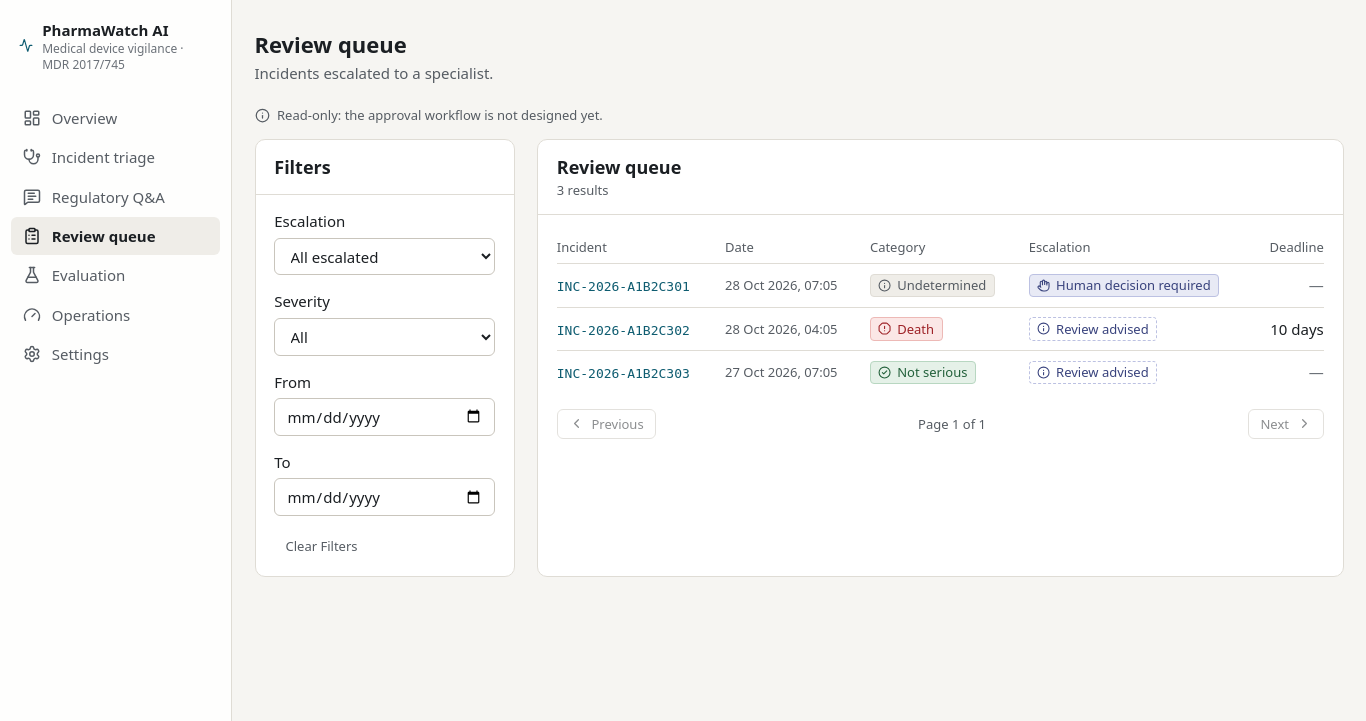
Test: review queue › lists only escalated incidents by default and opens one read-only
Check: the text "Read-only: the approval workflow is not designed yet." is shown, box [254,106,603,124]
Click the link "INC-2026-A1B2C301". click: (623,287)
box: [557,279,690,294]
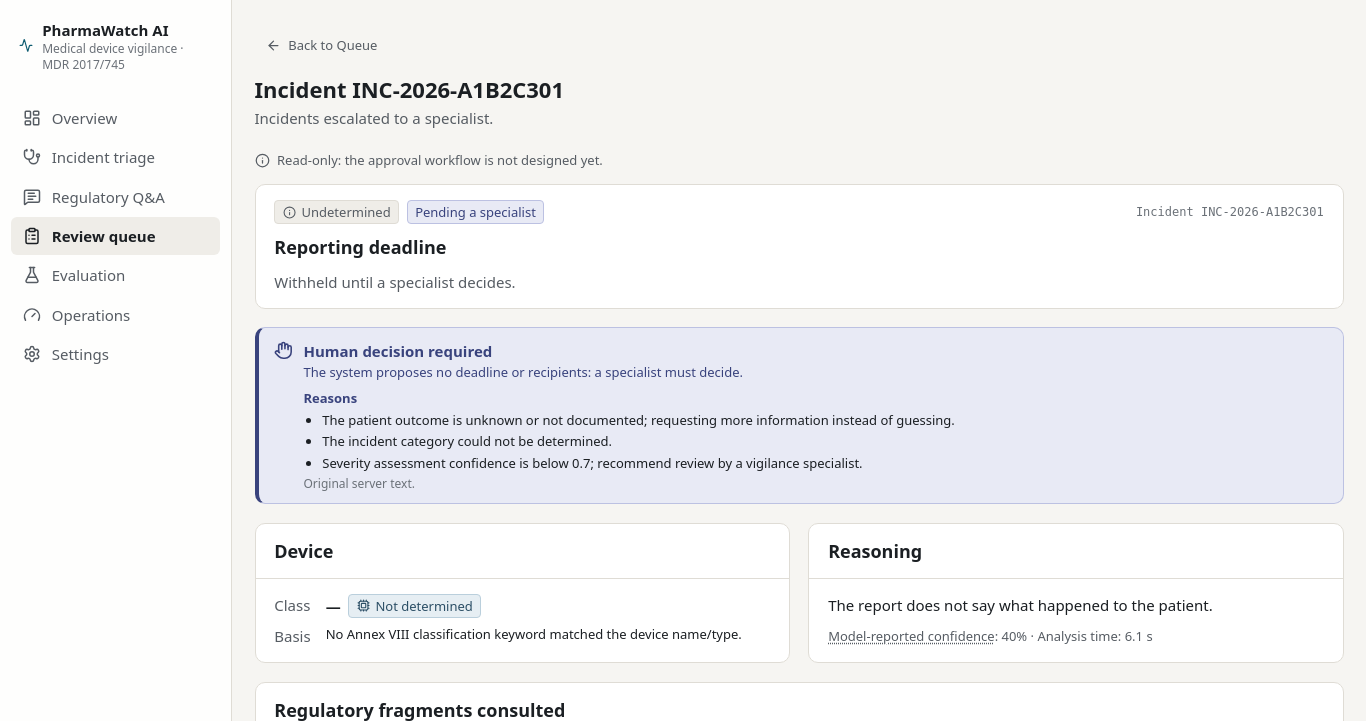
Check: the link "Back to Queue" is shown, box [266,36,377,54]
